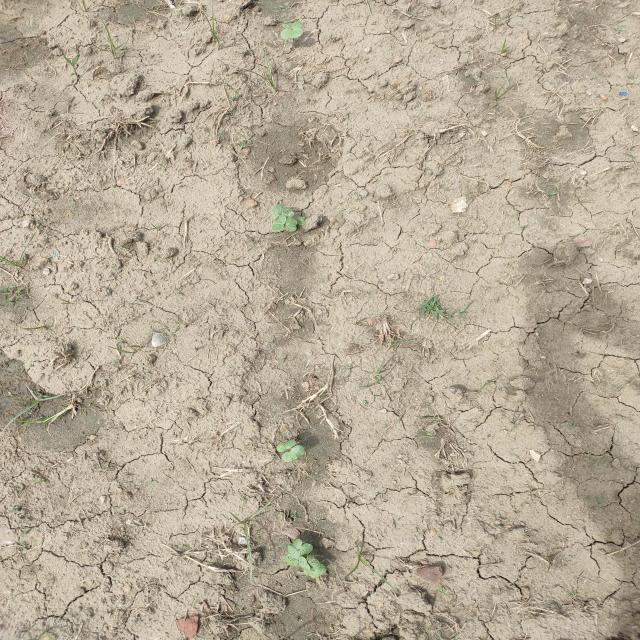seedling_s2: (281, 445, 305, 462), (271, 204, 295, 219), (293, 543, 313, 560), (280, 27, 303, 39), (276, 440, 296, 452), (272, 215, 286, 231), (287, 539, 302, 553), (281, 21, 302, 29), (285, 218, 297, 232), (299, 556, 310, 571), (303, 569, 319, 579), (287, 554, 299, 566), (307, 555, 319, 567), (313, 564, 326, 575), (283, 555, 294, 566)
